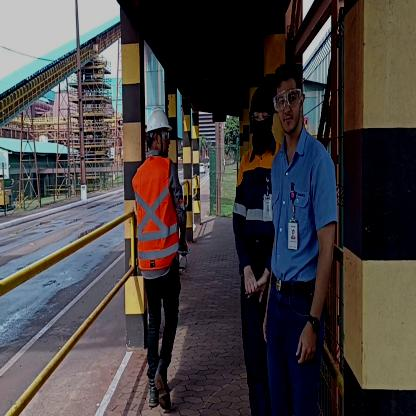Balaclava: (249, 86, 274, 149)
Capacete: (146, 103, 172, 130)
Operacional: (232, 146, 274, 236)
colete: (136, 165, 181, 267)
